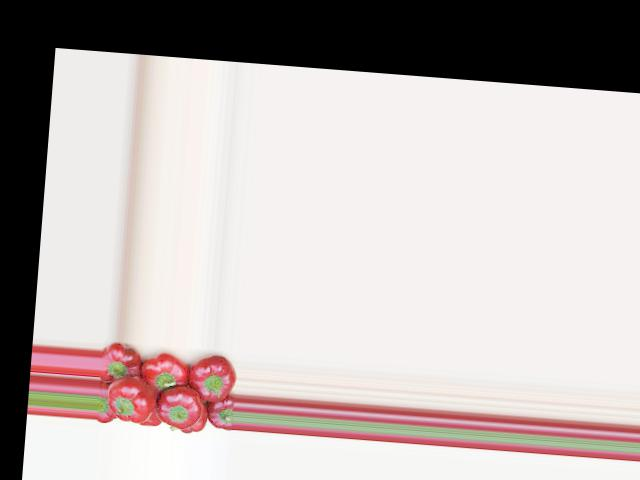bell_pepper: (142, 409, 162, 429)
